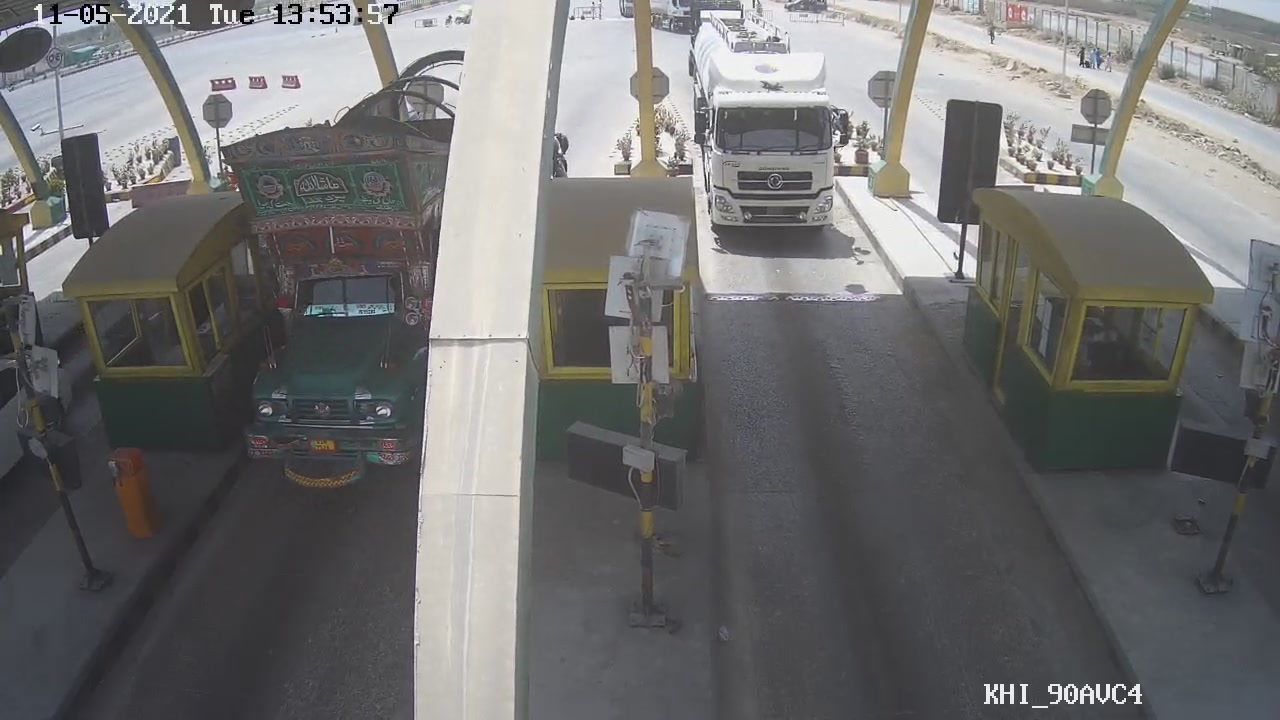F6: (697, 14, 857, 237)
